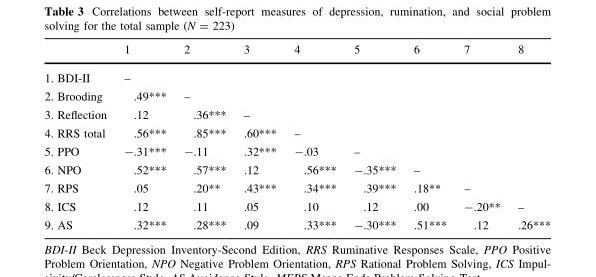table: (43, 43, 550, 230)
table column: (43, 43, 114, 230), (114, 43, 174, 230), (174, 43, 234, 230), (284, 43, 344, 230), (344, 43, 404, 230), (454, 43, 508, 230), (234, 43, 284, 230), (404, 43, 454, 230), (508, 43, 550, 230)
table column header: (43, 43, 550, 63)
table row: (43, 63, 550, 87), (43, 43, 550, 63), (43, 105, 550, 124), (43, 160, 550, 179), (43, 87, 550, 105), (43, 124, 550, 142), (43, 142, 550, 160), (43, 179, 550, 197), (43, 197, 550, 215), (43, 215, 550, 230)
